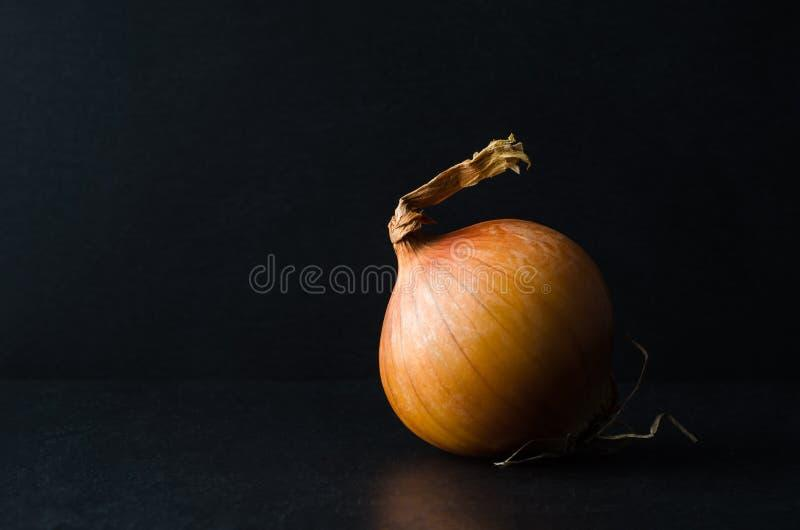Onion: (379, 135, 618, 458)
